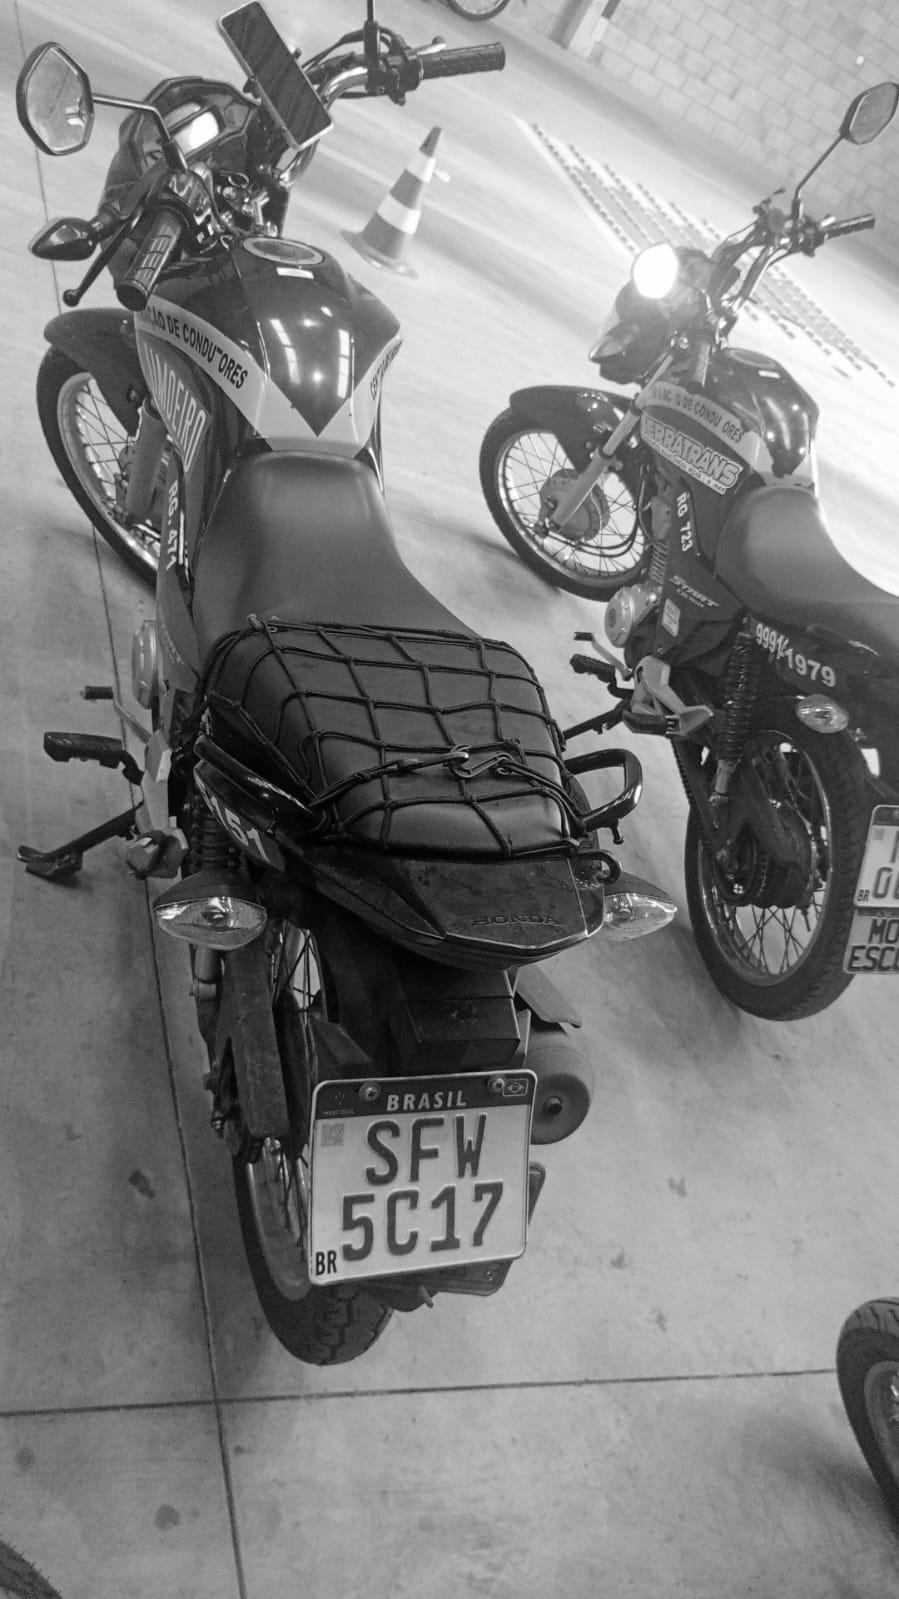placa_mercosul: (307, 1070, 534, 1287)
